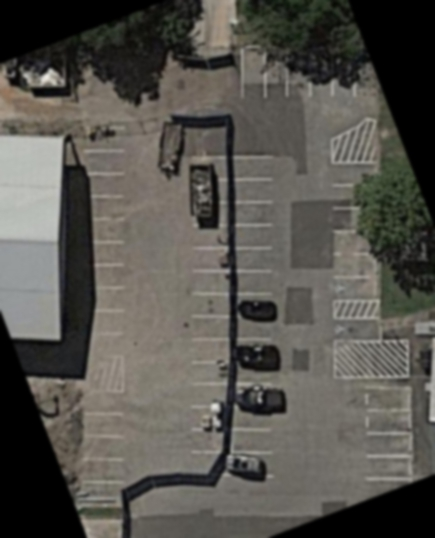parkingspot: (226, 152, 276, 479), (74, 125, 128, 338), (186, 221, 232, 408), (328, 160, 379, 302), (359, 381, 415, 501), (238, 45, 359, 100), (75, 389, 127, 486), (330, 316, 382, 343), (186, 426, 227, 454)
